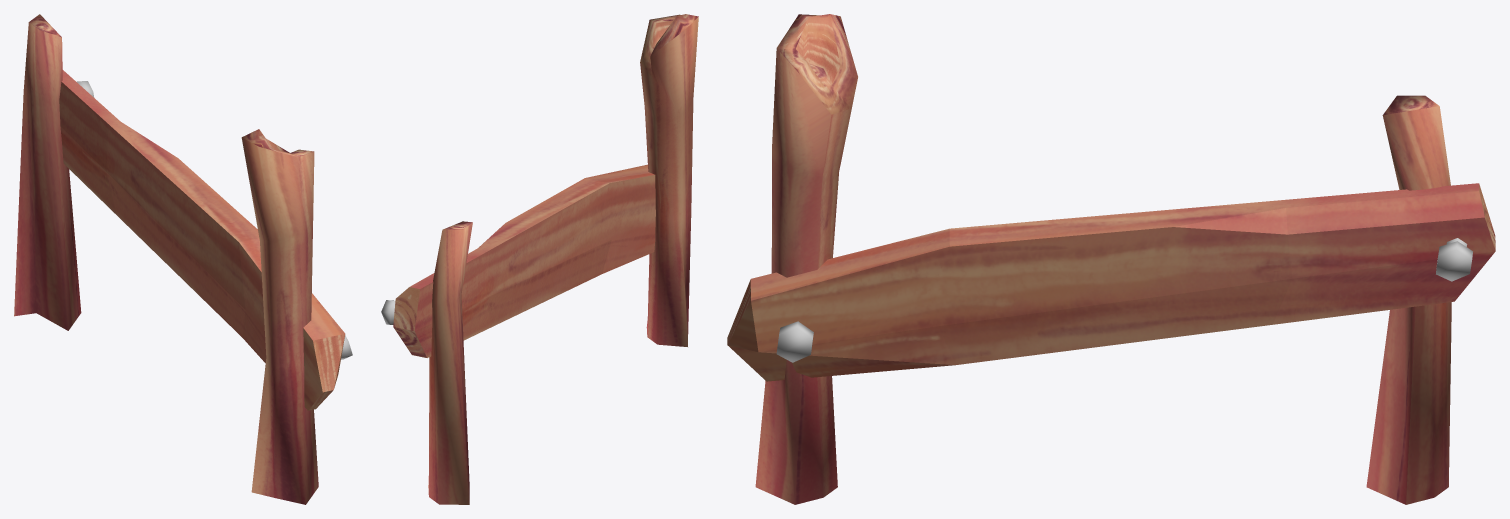
The model's file is m_fence_03.fbx.
The picture shows the model from 3 angles, left to right: view 1: azimuth 30°, elevation 25°; view 2: azimuth 150°, elevation 25°; view 3: azimuth 270°, elevation 25°; orthographic projection. The views are drawn at different scales.
Parts seen in each view (by area): view 1: m_fence_03; view 2: m_fence_03; view 3: m_fence_03.
Boxes of the visible parts, x1,y1,x2,y2 form: m_fence_03: (14,14,352,504); m_fence_03: (381,14,698,504); m_fence_03: (727,14,1495,504).
Size of the model in its own units: 25.31 by 101 by 152.
